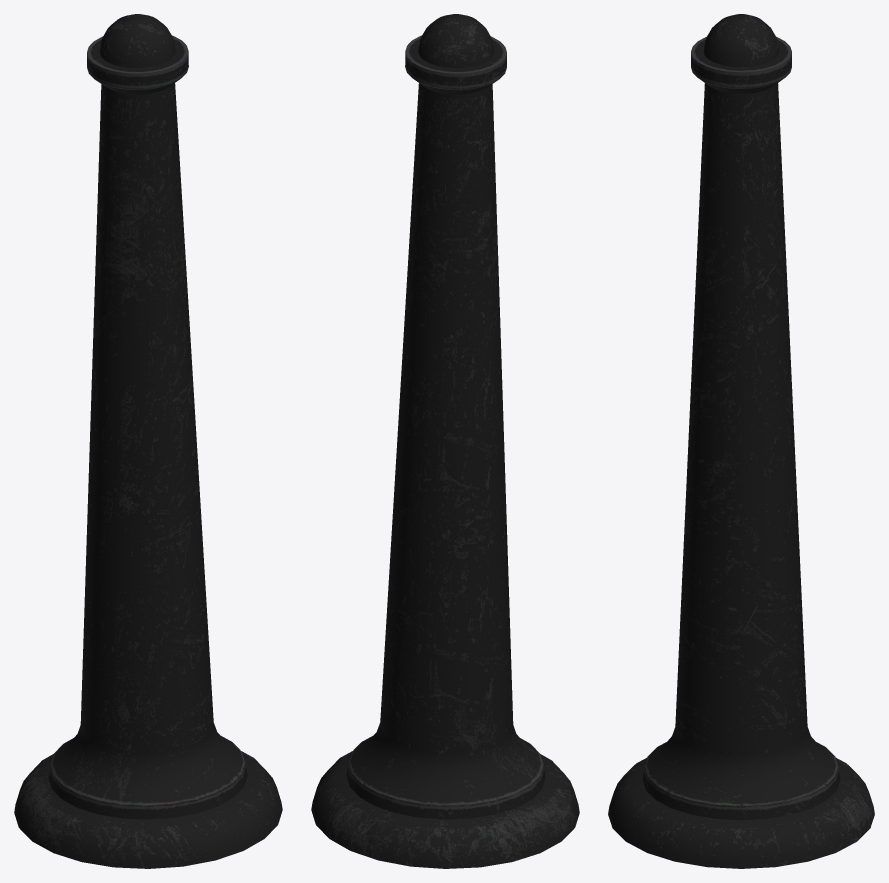
The picture shows the model from 3 angles, left to right: view 1: azimuth 30°, elevation 25°; view 2: azimuth 150°, elevation 25°; view 3: azimuth 270°, elevation 25°; orthographic projection.
Parts seen in each view (by area): view 1: Bollard4; view 2: Bollard4; view 3: Bollard4.
Part boxes in pixels (x1=…): Bollard4: x1=14, y1=14, x2=282, y2=868; Bollard4: x1=311, y1=14, x2=579, y2=868; Bollard4: x1=608, y1=14, x2=874, y2=868.
Size of the model in its own units: 0.3155 by 1.03 by 0.3155.
1 material, 1 textured.
